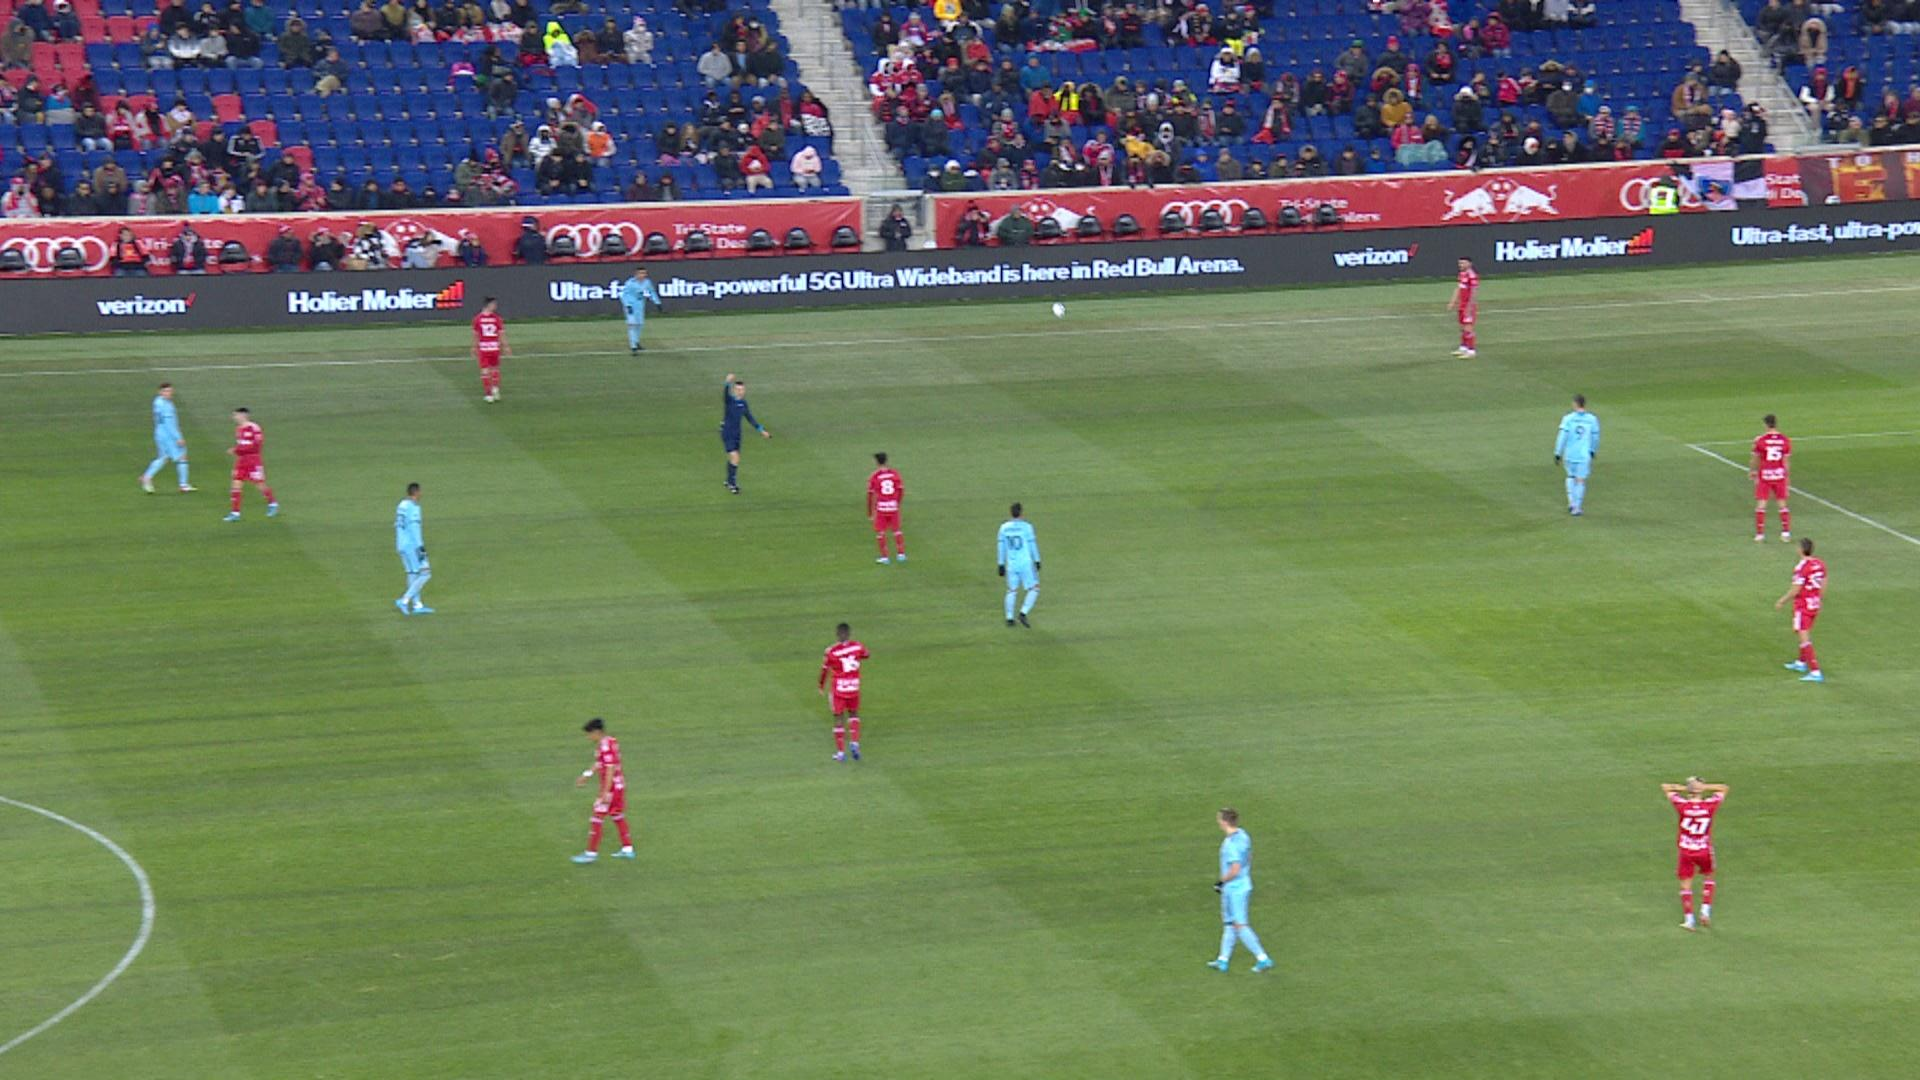football: (1050, 303, 1068, 319)
